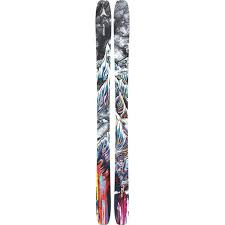skis: (95, 1, 132, 225)
